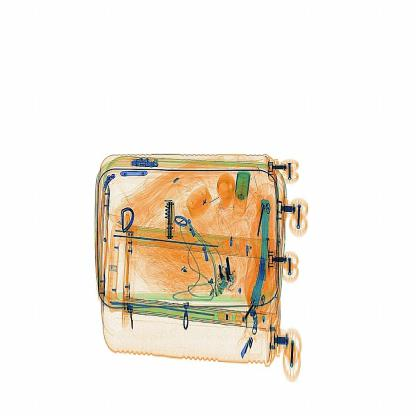scissors: (150, 187, 186, 249)
